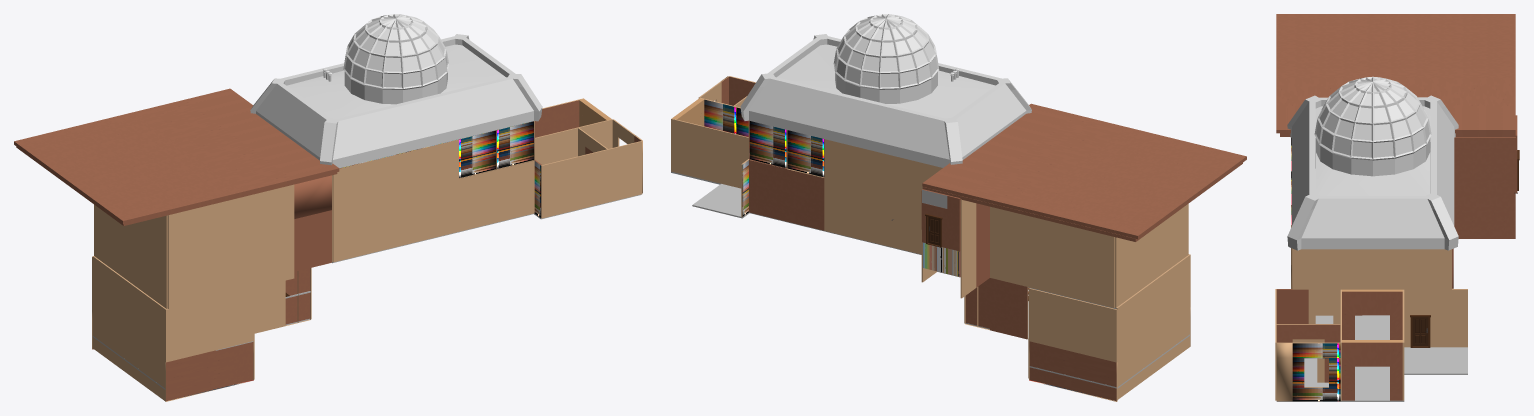
The model's file is MODULOS_TEXTURAS.fbx.
3 views of the same model, side by side, from view 1: azimuth 30°, elevation 25°; view 2: azimuth 150°, elevation 25°; view 3: azimuth 270°, elevation 25° (orthographic). The views are drawn at different scales.
Parts seen in each view (by area): view 1: floor_roof_skewed_frame_dome_steampunk.001, floor_10x10m__2_.001, wall_plain_3x4m_ext_013, wall_plain_5x4m_ext_021, wall_plain_5x4m_ext_009, wall_plain_3x4m_ext_014, wall_plain_5x4m_ext_001, wall_plain_5x4m_ext_002, wall_plain_4x4m_ext_001, wall_plain_4x4m_ext_006, wall_plain_5x4m_ext_003, wall_plain_5x4m_ext_004 (+22 smaller); view 2: floor_roof_skewed_frame_dome_steampunk.001, floor_10x10m__2_.001, wall_plain_3x4m_ext_011, wall_plain_5x4m_ext_023, wall_plain_5x4m_ext_011, wall_plain_3x4m_ext_012, wall_plain_5x4m_ext_006, wall_plain_4x4m_ext_005, wall_plain_5x4m_ext_007, wall_plain_5x4m_ext_025, wall_plain_3x4m_ext_019, wall_plain_3x4m_ext_009 (+25 smaller); view 3: floor_roof_skewed_frame_dome_steampunk.001, floor_10x10m__2_.001, wall_plain_5x4m_ext_013, wall_plain_5x4m_ext_014, wall_door_double_regular_3x3m_ext_002, wall_door_double_regular_3x3m_ext_003, wall_window_rectangle_3x4m_ext_001, wall_plain_2x4m_ext_007, wall_plain_2x4m_ext_011, floor_4x4m_002, wall_plain_2x4m_ext_008, wall_plain_2x4m_ext_012 (+19 smaller).
Boxes of the visible parts, x1,y1,x2,y2 form: floor_roof_skewed_frame_dome_steampunk.001: (250, 14, 542, 168); floor_10x10m__2_.001: (14, 88, 339, 224); wall_plain_3x4m_ext_013: (165, 288, 253, 362); wall_plain_5x4m_ext_021: (167, 234, 231, 308); wall_plain_5x4m_ext_009: (231, 219, 294, 293); wall_plain_3x4m_ext_014: (165, 341, 253, 401); wall_plain_5x4m_ext_001: (332, 194, 396, 262); wall_plain_5x4m_ext_002: (396, 179, 458, 246); wall_plain_4x4m_ext_001: (541, 153, 591, 218); wall_plain_4x4m_ext_006: (592, 141, 642, 206); wall_plain_5x4m_ext_003: (332, 154, 396, 209); wall_plain_5x4m_ext_004: (396, 139, 458, 194); floor_roof_skewed_frame_dome_steampunk.001: (740, 14, 1031, 167); floor_10x10m__2_.001: (922, 103, 1246, 239); wall_plain_3x4m_ext_011: (1029, 288, 1117, 362); wall_plain_5x4m_ext_023: (1051, 234, 1114, 307); wall_plain_5x4m_ext_011: (990, 218, 1051, 292); wall_plain_3x4m_ext_012: (1029, 341, 1117, 401); wall_plain_5x4m_ext_006: (824, 178, 886, 245); wall_plain_4x4m_ext_005: (671, 118, 721, 183); wall_plain_5x4m_ext_007: (824, 139, 886, 193); wall_plain_5x4m_ext_025: (1115, 230, 1152, 307); wall_plain_3x4m_ext_019: (786, 169, 824, 230); wall_plain_3x4m_ext_009: (990, 278, 1028, 339); floor_roof_skewed_frame_dome_steampunk.001: (1287, 76, 1458, 250); floor_10x10m__2_.001: (1276, 14, 1515, 133); wall_plain_5x4m_ext_013: (1292, 249, 1372, 289); wall_plain_5x4m_ext_014: (1372, 249, 1451, 289); wall_door_double_regular_3x3m_ext_002: (1342, 340, 1402, 400); wall_door_double_regular_3x3m_ext_003: (1342, 289, 1402, 339); wall_window_rectangle_3x4m_ext_001: (1292, 342, 1340, 401); wall_plain_2x4m_ext_007: (1436, 289, 1467, 347); wall_plain_2x4m_ext_011: (1484, 181, 1515, 238); floor_4x4m_002: (1404, 347, 1467, 374); wall_plain_2x4m_ext_008: (1454, 181, 1483, 238); wall_plain_2x4m_ext_012: (1484, 137, 1515, 180).
Size of the model in its own units: 4135 by 2219 by 1535.
